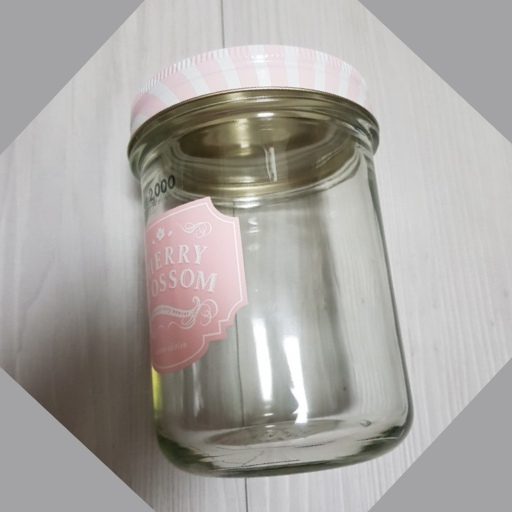Glass_5: (122, 46, 411, 476)
